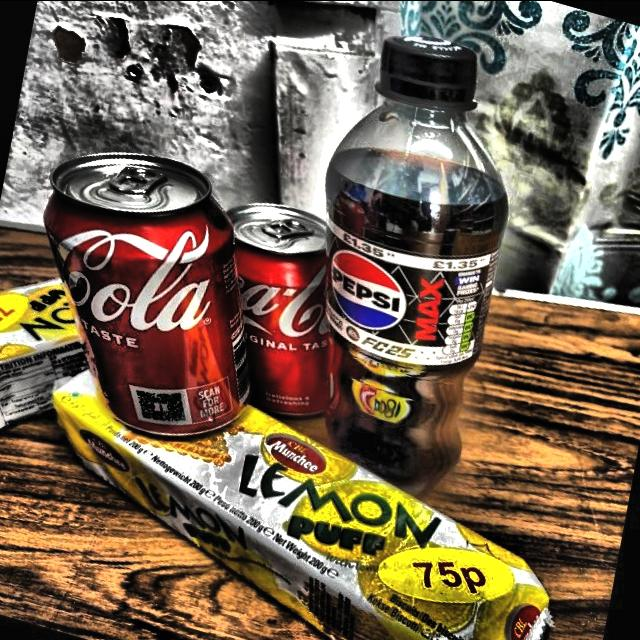coke-can: (53, 145, 244, 431), (234, 207, 338, 423)
lemon puff: (63, 367, 553, 640), (0, 270, 88, 431)
pepsi-bottle: (325, 32, 507, 484)
